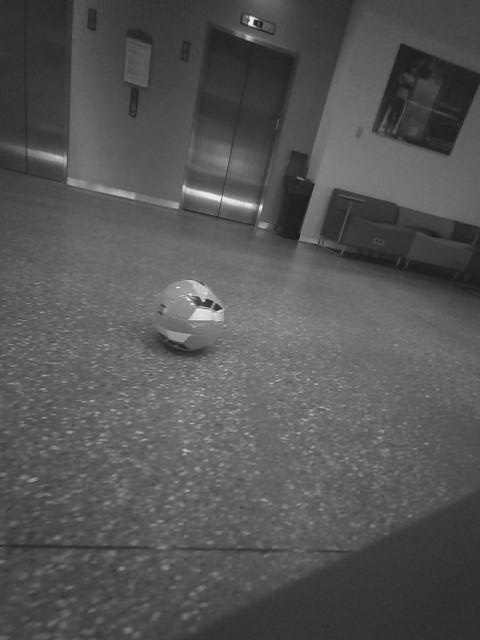ball: (238, 210, 262, 237)
